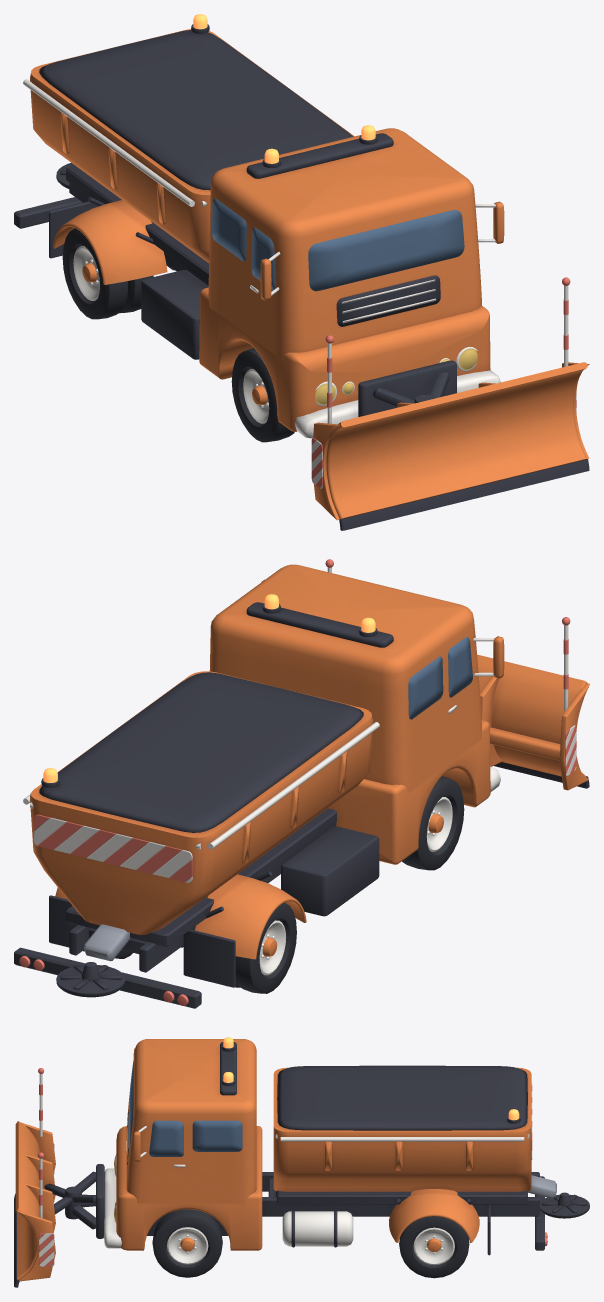
The model's file is snow-plow.glb.
3 views of the same model, one above another, from view 1: azimuth 30°, elevation 25°; view 2: azimuth 150°, elevation 25°; view 3: azimuth 270°, elevation 25° (orthographic). The views are drawn at different scales.
Parts seen in each view (by area): view 1: snow-plow_body, snow-plow_blade, snow-plow_windows, snow-plow_wheel_rr, snow-plow_wheel_fr, snow-plow_headlights; view 2: snow-plow_body, snow-plow_blade, snow-plow_wheel_fr, snow-plow_wheel_rr, snow-plow_windows; view 3: snow-plow_body, snow-plow_blade, snow-plow_wheel_fl, snow-plow_wheel_rl, snow-plow_windows.
Part boxes in pixels (x1,y1,x2,y2): snow-plow_body: [14, 24, 504, 438]; snow-plow_blade: [311, 277, 589, 530]; snow-plow_windows: [212, 198, 464, 291]; snow-plow_wheel_rr: [62, 228, 153, 319]; snow-plow_wheel_fr: [231, 348, 294, 442]; snow-plow_headlights: [315, 347, 477, 406]; snow-plow_body: [14, 564, 504, 1008]; snow-plow_blade: [325, 559, 589, 790]; snow-plow_wheel_fr: [402, 776, 464, 870]; snow-plow_wheel_rr: [225, 902, 296, 993]; snow-plow_windows: [408, 637, 472, 719]; snow-plow_body: [65, 1039, 589, 1255]; snow-plow_blade: [14, 1068, 81, 1287]; snow-plow_wheel_fl: [152, 1209, 222, 1277]; snow-plow_wheel_rl: [399, 1216, 469, 1278]; snow-plow_windows: [129, 1061, 242, 1156].
Bounding box in the file's own units: 3.06 × 2.97 × 8.17.
Materials: 20 (2 with a texture image).
